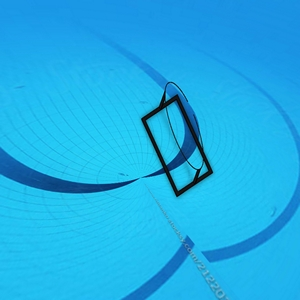circle: (140, 76, 219, 200)
